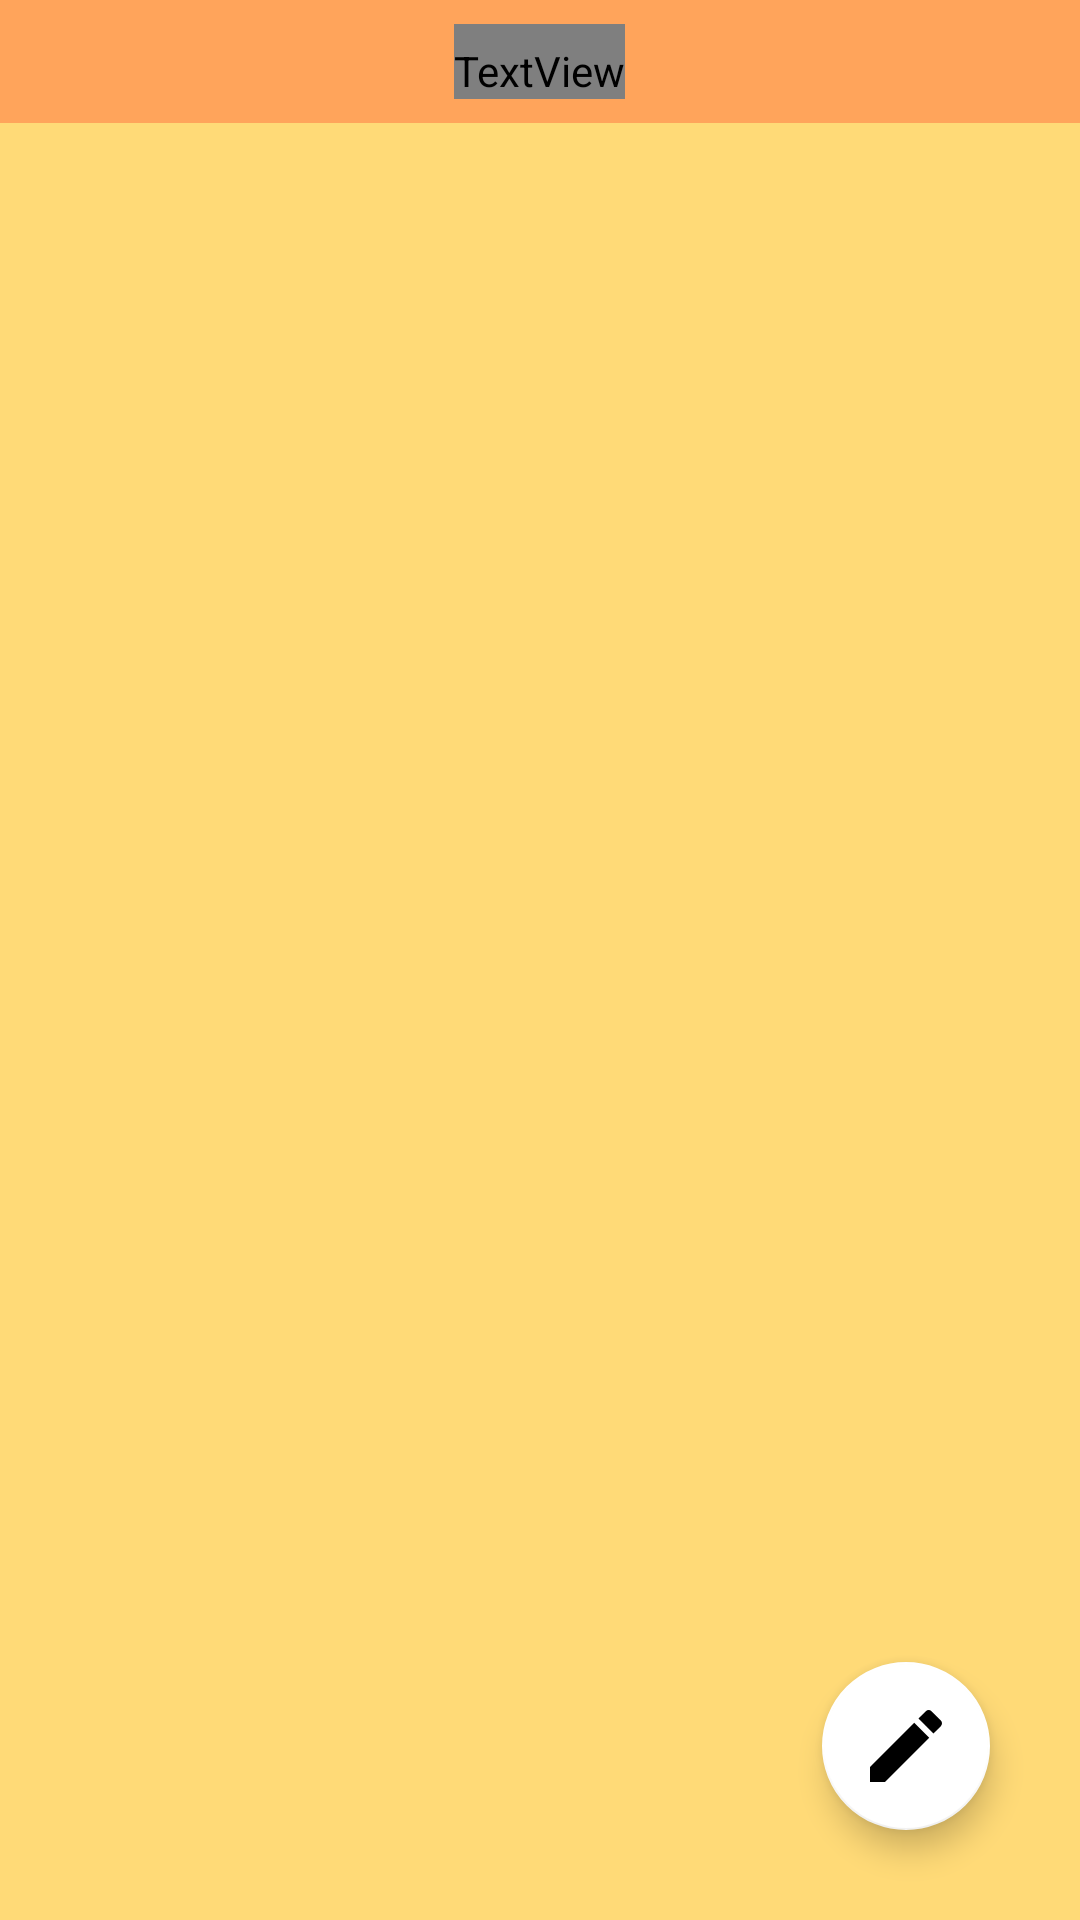

Locate icon controls on the screen. Image size 1080w x 1920h, boxes as (x1, y1, x2, y2).
pencil: (822, 1662, 990, 1830)
